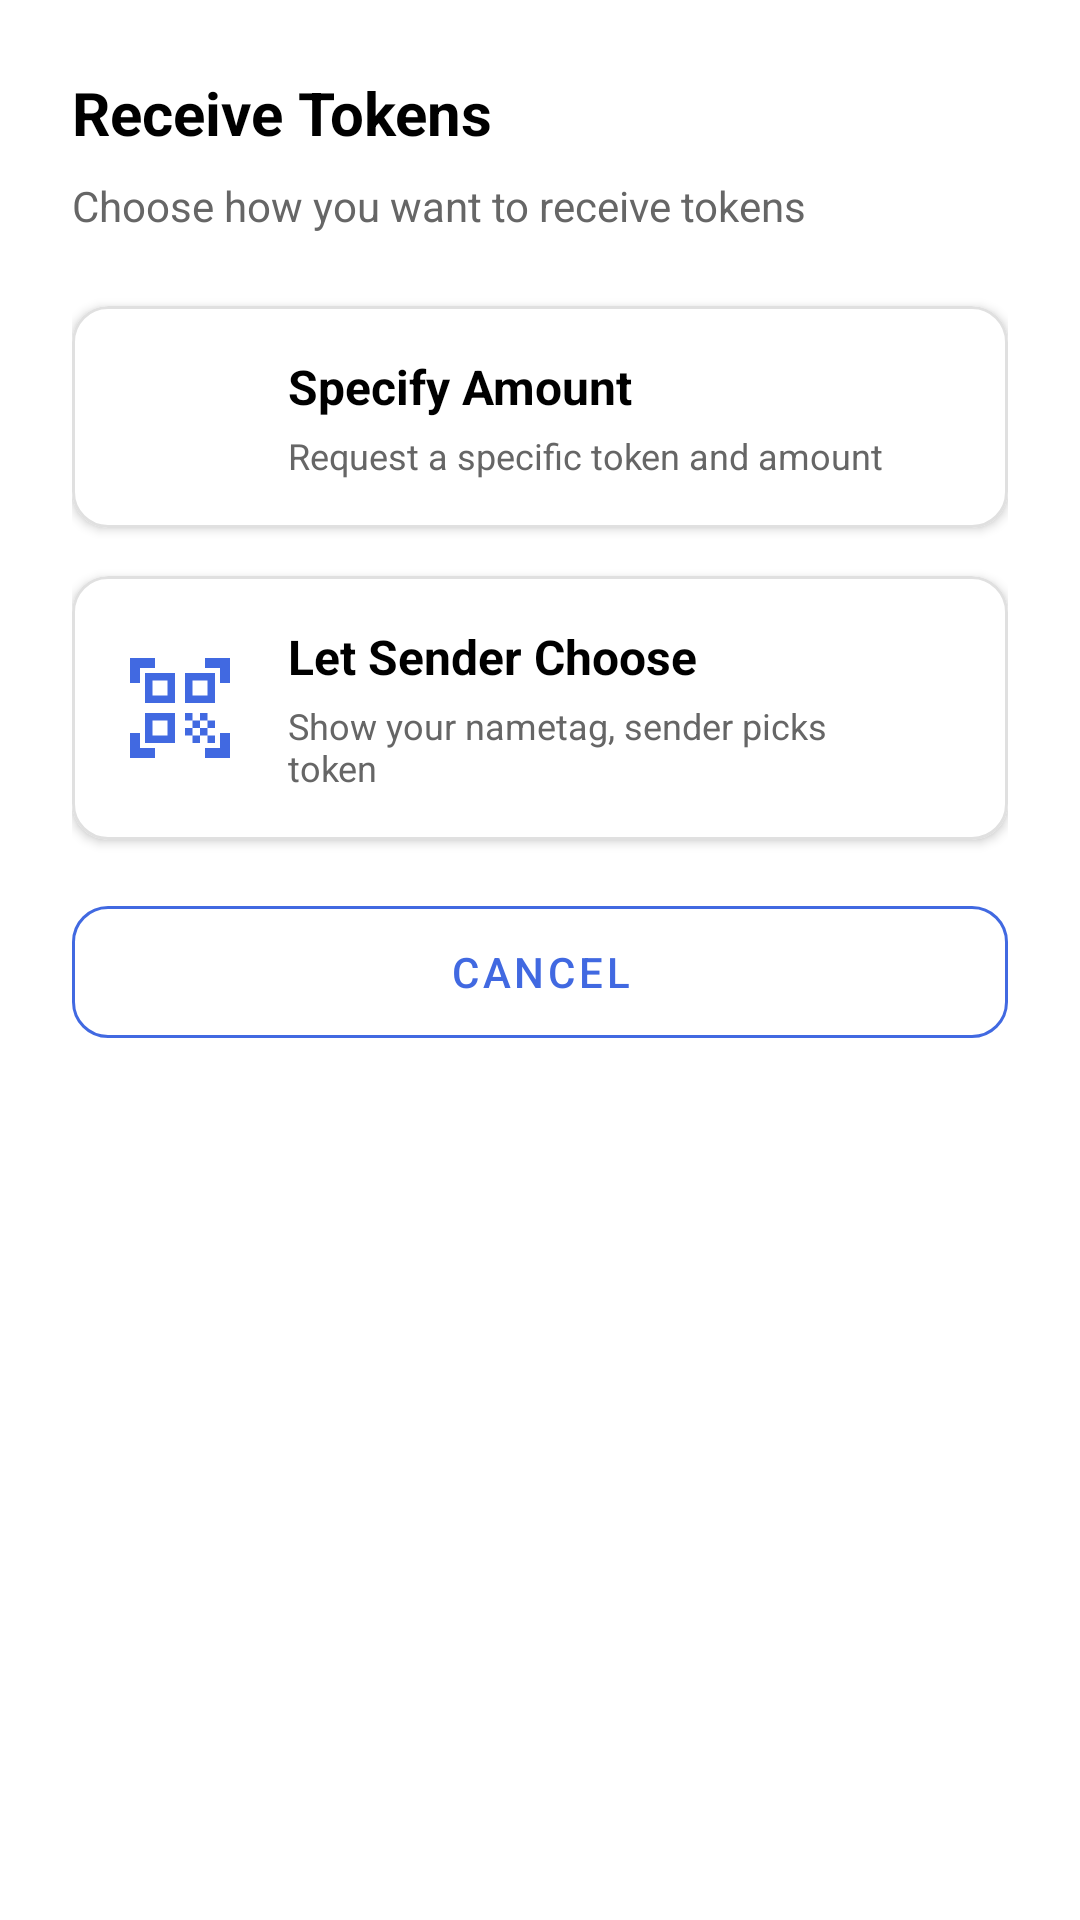

Point at icon controls on the screen. Image size 1080*1920, points as point (x, y).
qr code scanner: point (180, 708)
